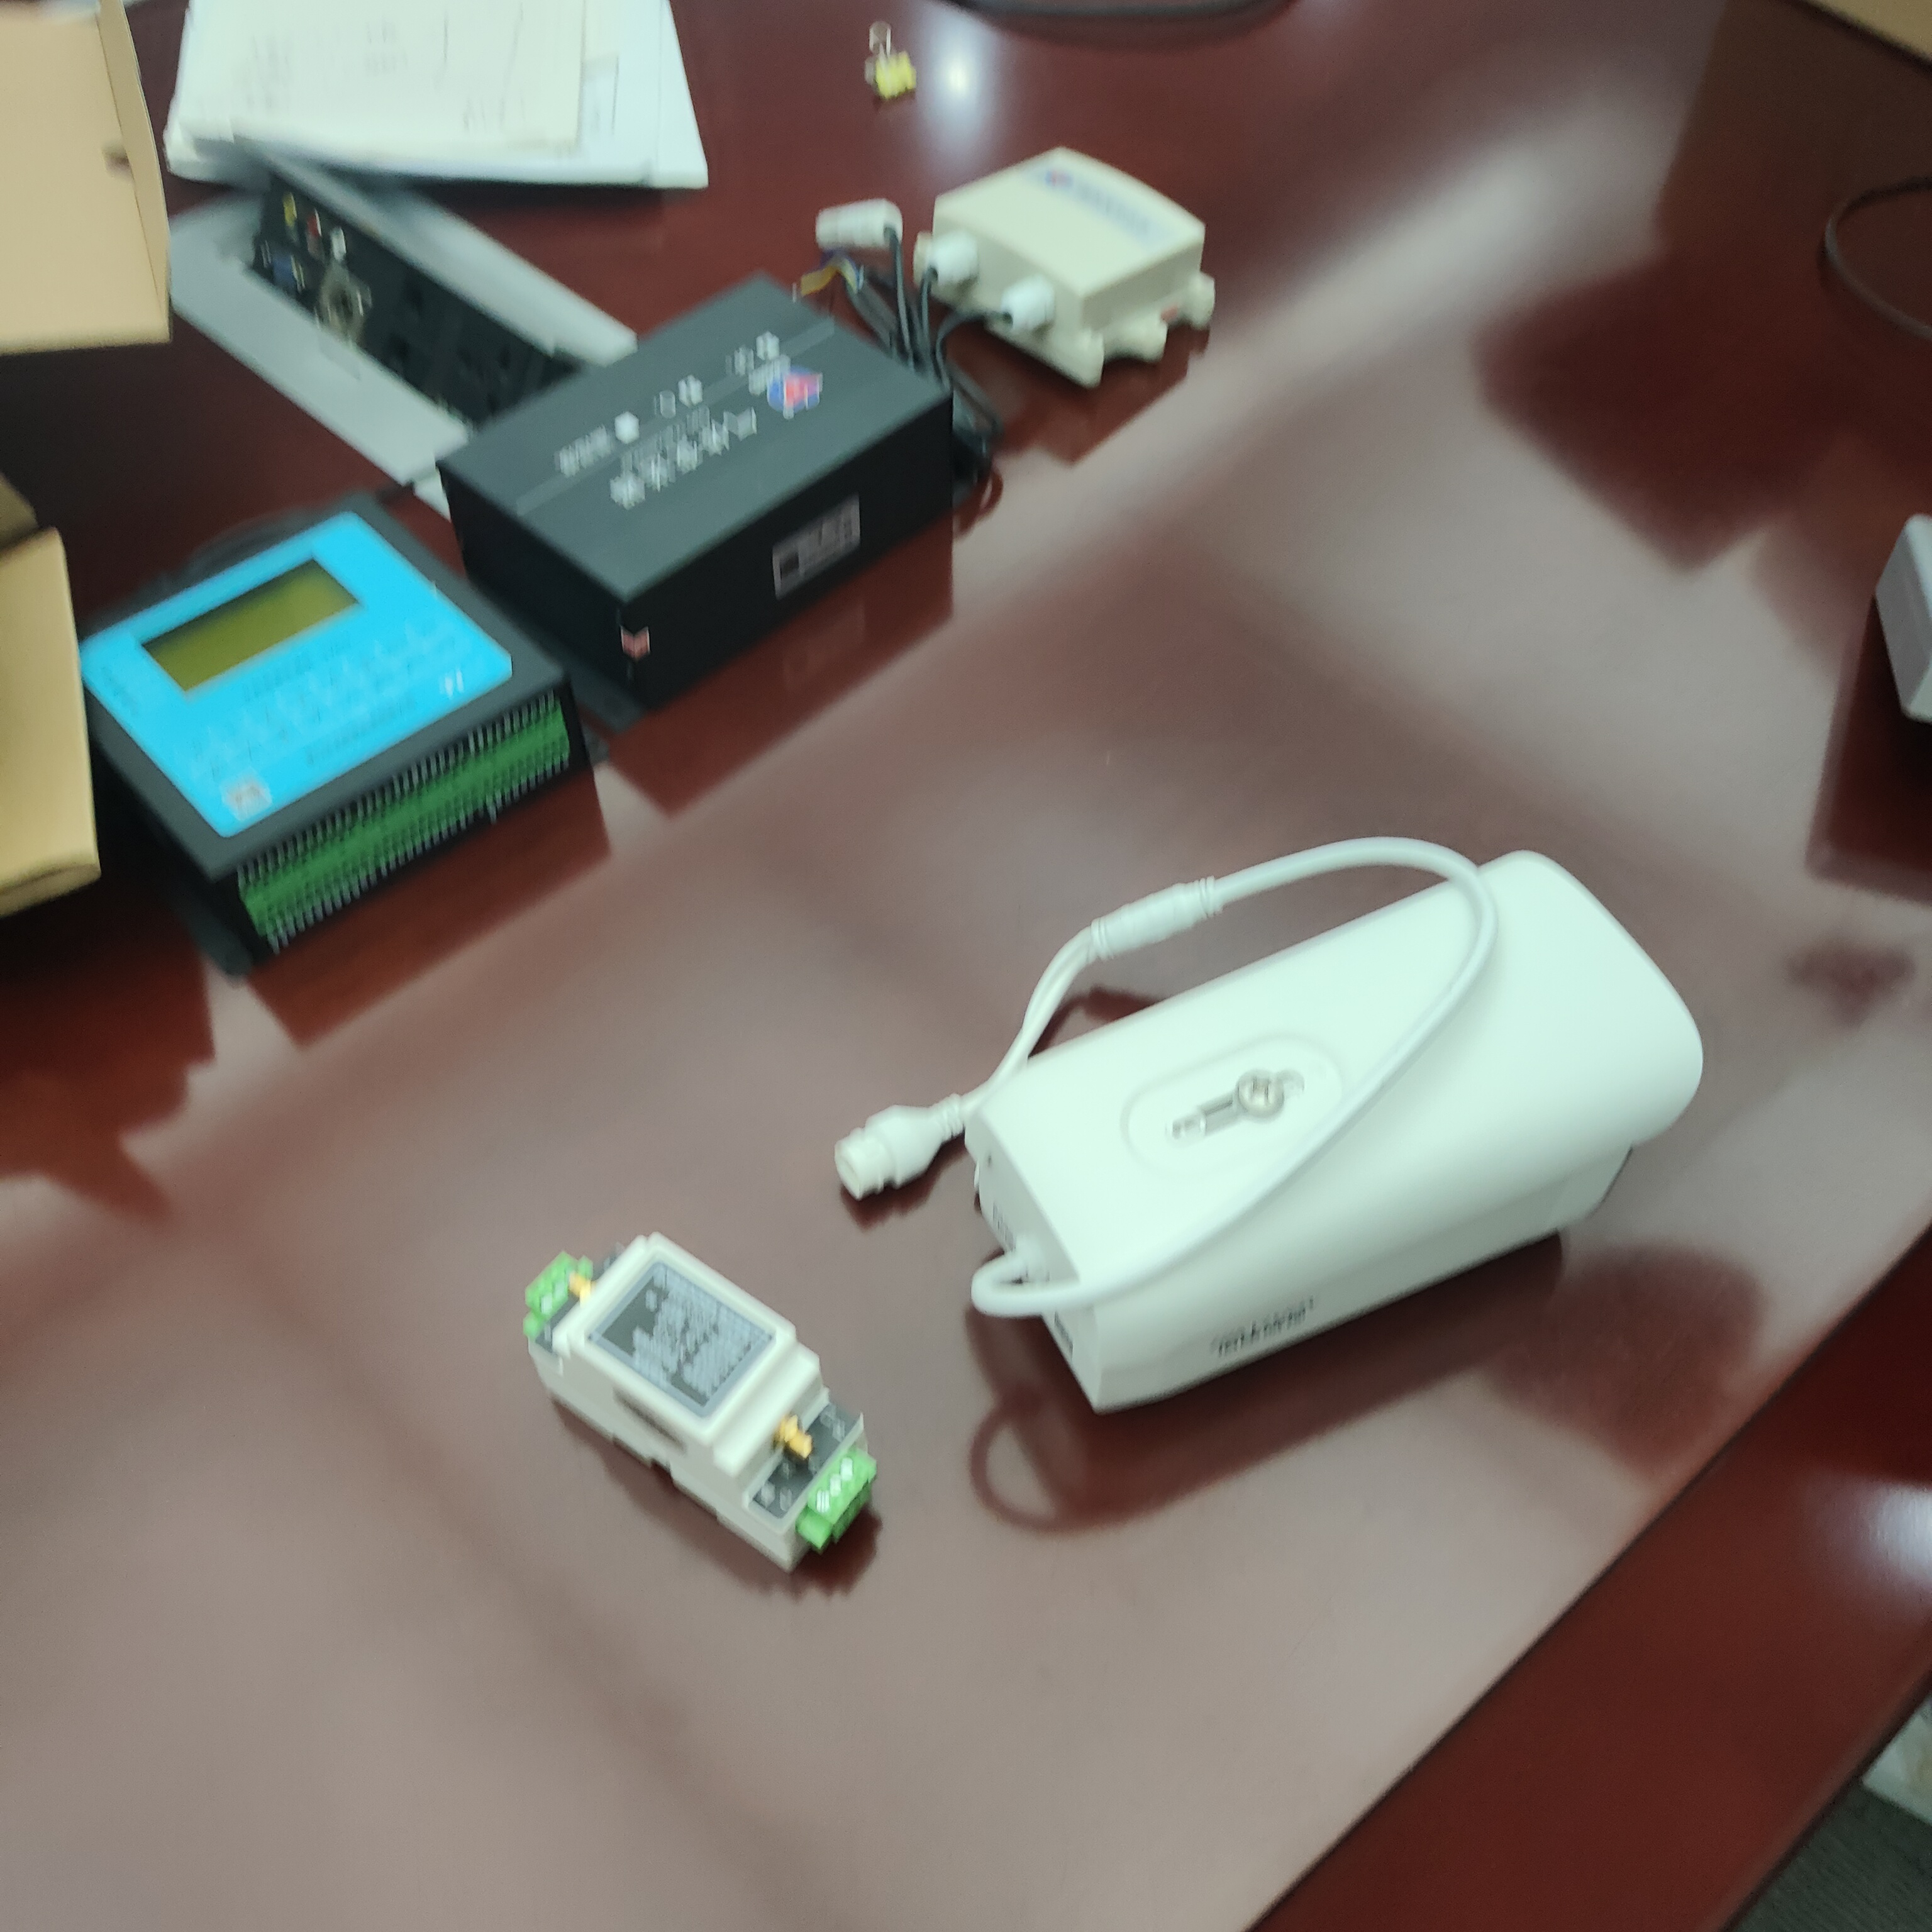dgjs: (504, 1223, 893, 1605)
hkws: (955, 855, 1730, 1440)
qtbsq: (442, 288, 977, 663)
slyczd: (58, 481, 587, 984)
wsdbsq: (918, 131, 1253, 382)
